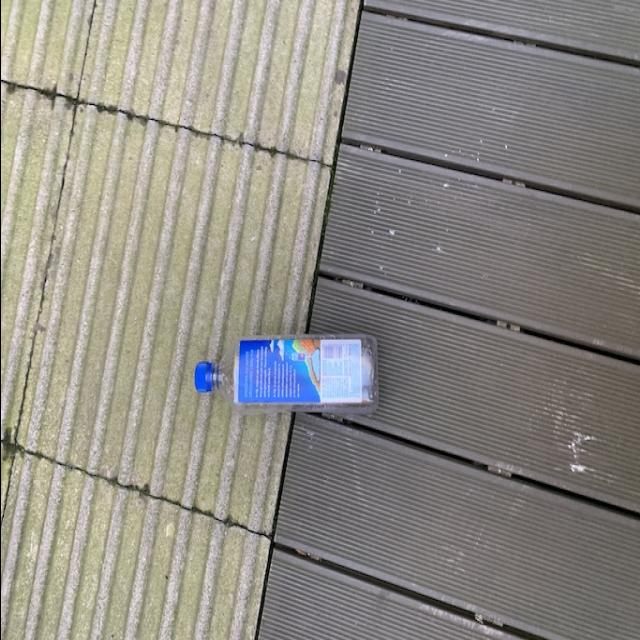litter: (186, 328, 378, 412)
